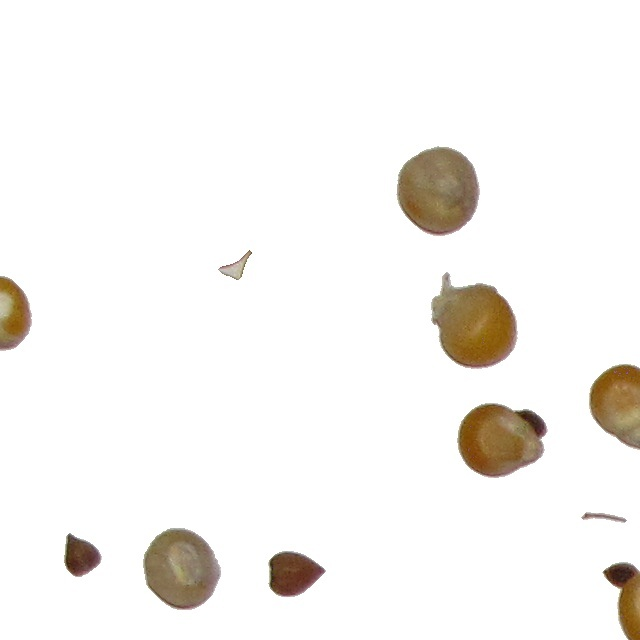buckwheat: (267, 550, 327, 598), (63, 532, 103, 578)
dill: (580, 511, 628, 524)
mais: (430, 271, 519, 370), (395, 145, 481, 237), (456, 402, 549, 479), (142, 527, 222, 611), (588, 363, 640, 453), (601, 561, 640, 640)
other: (217, 249, 253, 281)
